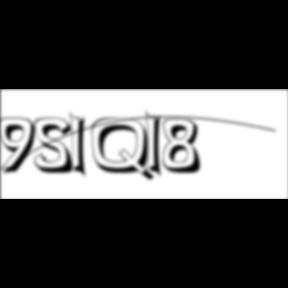8: (164, 117, 208, 176)
9: (1, 117, 44, 177)
I: (69, 110, 93, 182)
Q: (92, 117, 158, 184)
S: (34, 117, 80, 176)
l: (145, 108, 168, 182)
